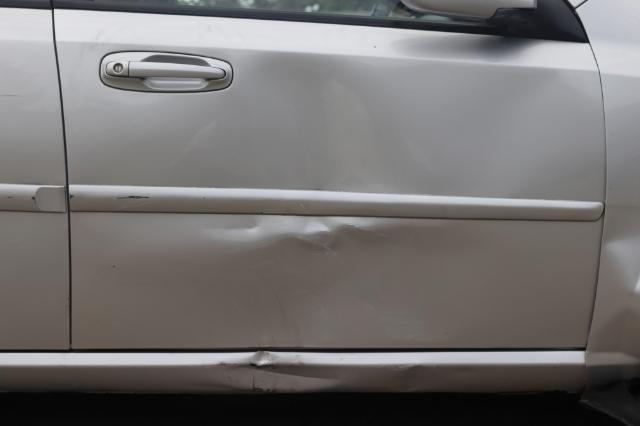dent: (177, 52, 424, 343), (218, 350, 341, 395), (605, 217, 640, 294)
